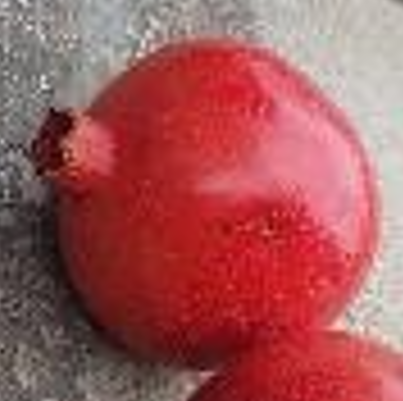pomegranate_A: (30, 36, 380, 372)
